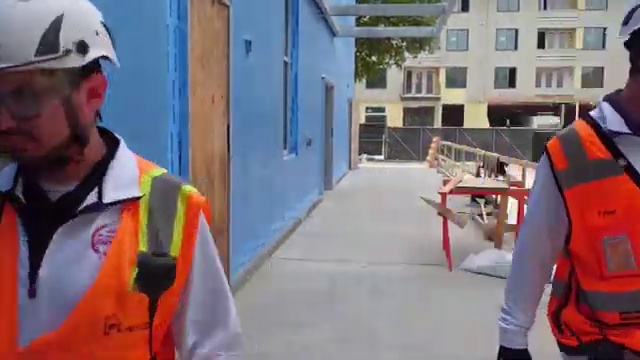helmet: (1, 7, 133, 86)
jacket: (1, 152, 221, 360), (538, 117, 640, 360)
